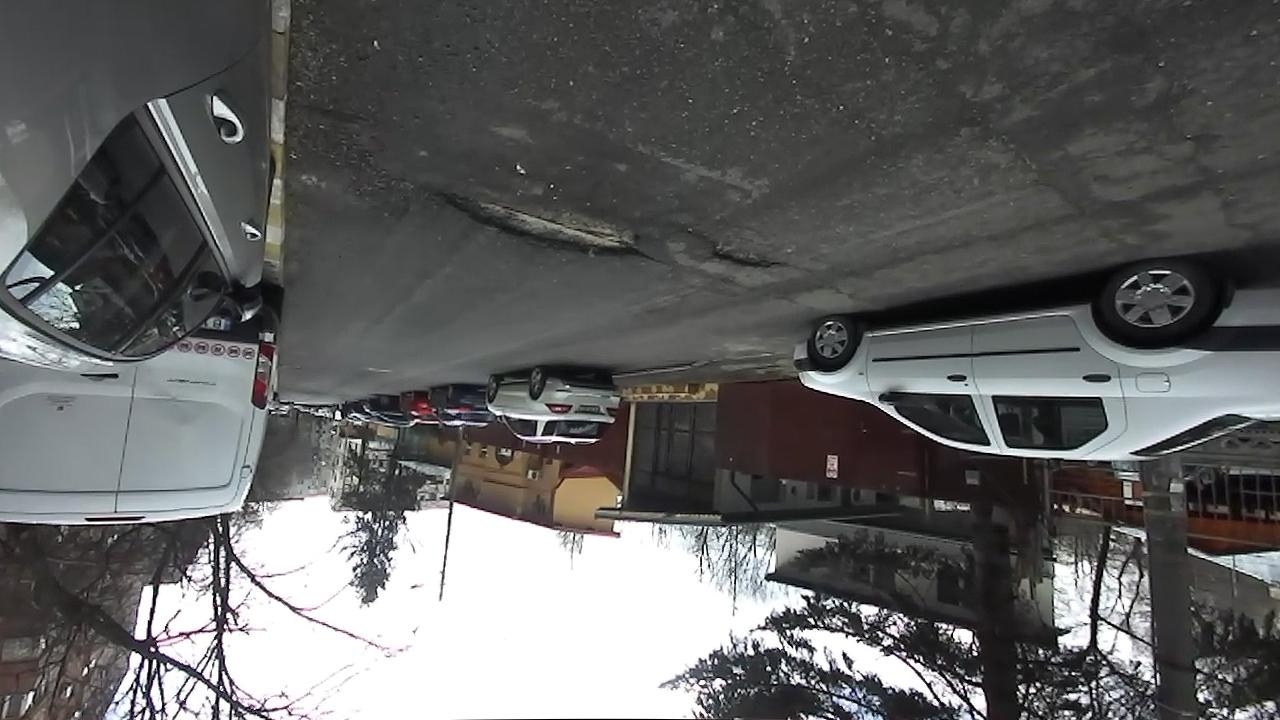pothole: (424, 183, 652, 266), (693, 230, 789, 273)
